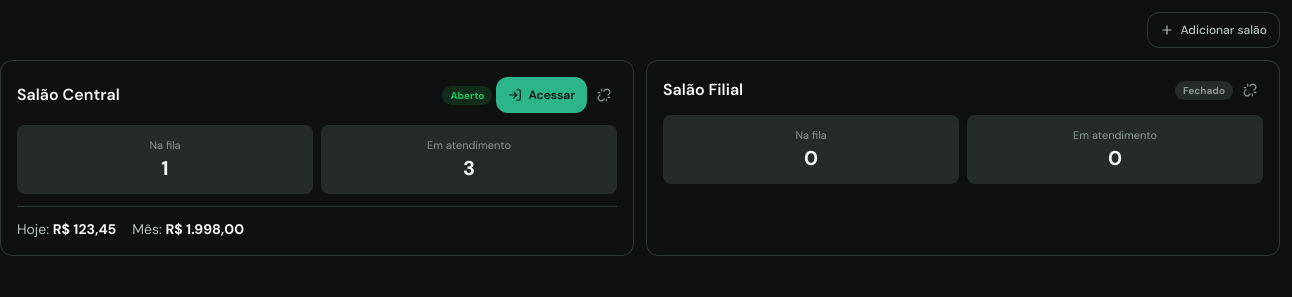
MultiUnitDashboard › erro da troca aparece em português e não navega
What coordinates should you click on to do the following:
click the button with aria-label "Acessar Salão Central"
I would click on:
 (542, 95)
Its box is [496,77,587,113].
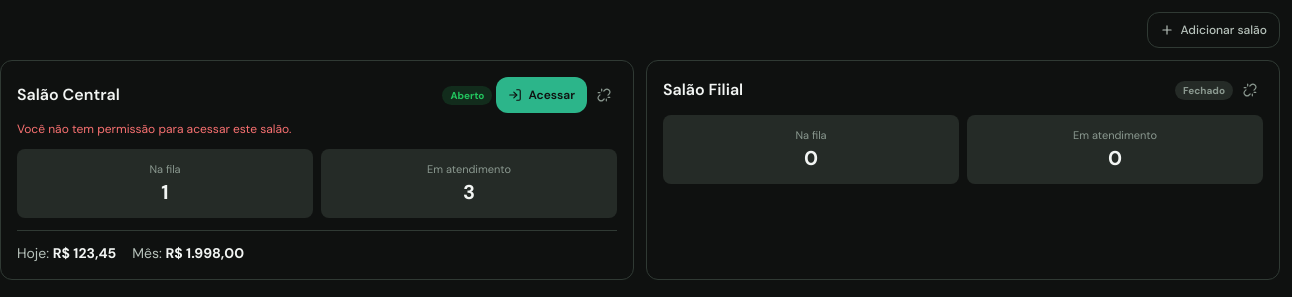
Expected: the message reads "Você não tem permissão para acessar este salão.", [17,121,291,137]
